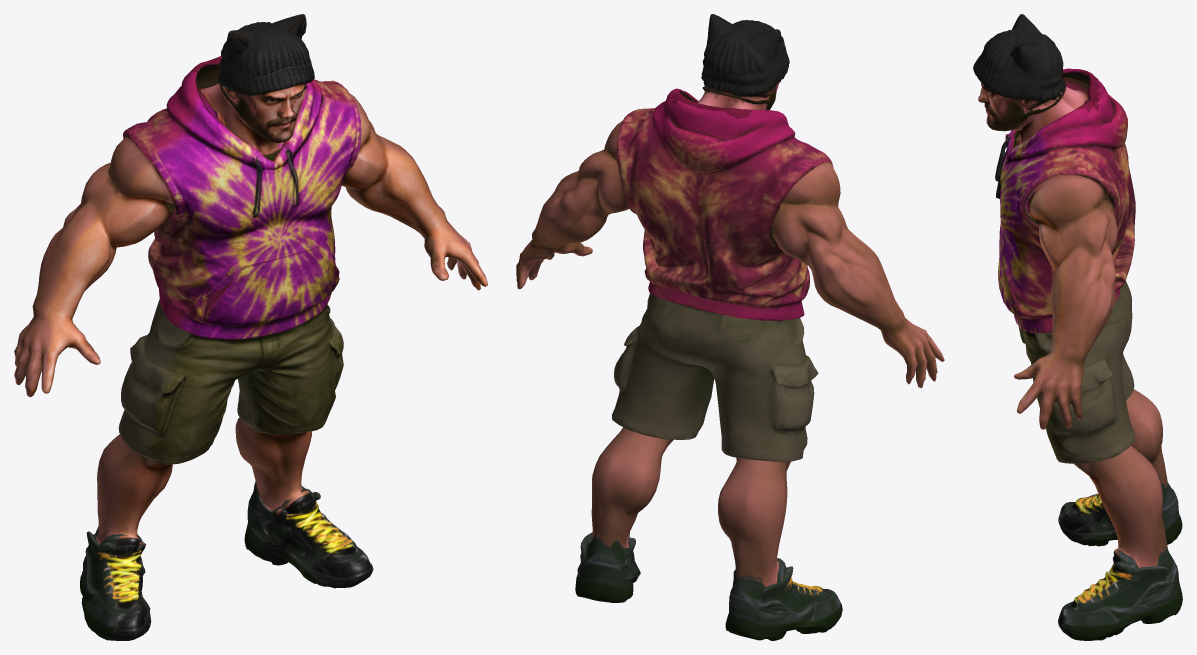
File: house-tie-dye_body.glb
3 views of the same model, side by side, from view 1: azimuth 30°, elevation 25°; view 2: azimuth 150°, elevation 25°; view 3: azimuth 270°, elevation 25° (orthographic). The views are drawn at different scales.
Parts seen in each view (by area): view 1: house-tie-dye; view 2: house-tie-dye; view 3: house-tie-dye.
Part boxes in pixels (box(x1,y1,x2,y2)): house-tie-dye: box(14, 14, 487, 640); house-tie-dye: box(516, 14, 944, 640); house-tie-dye: box(973, 14, 1182, 640).
Bounding box in the file's own units: 1.38 × 1.78 × 0.6087.
Materials: 2 (2 with a texture image).
